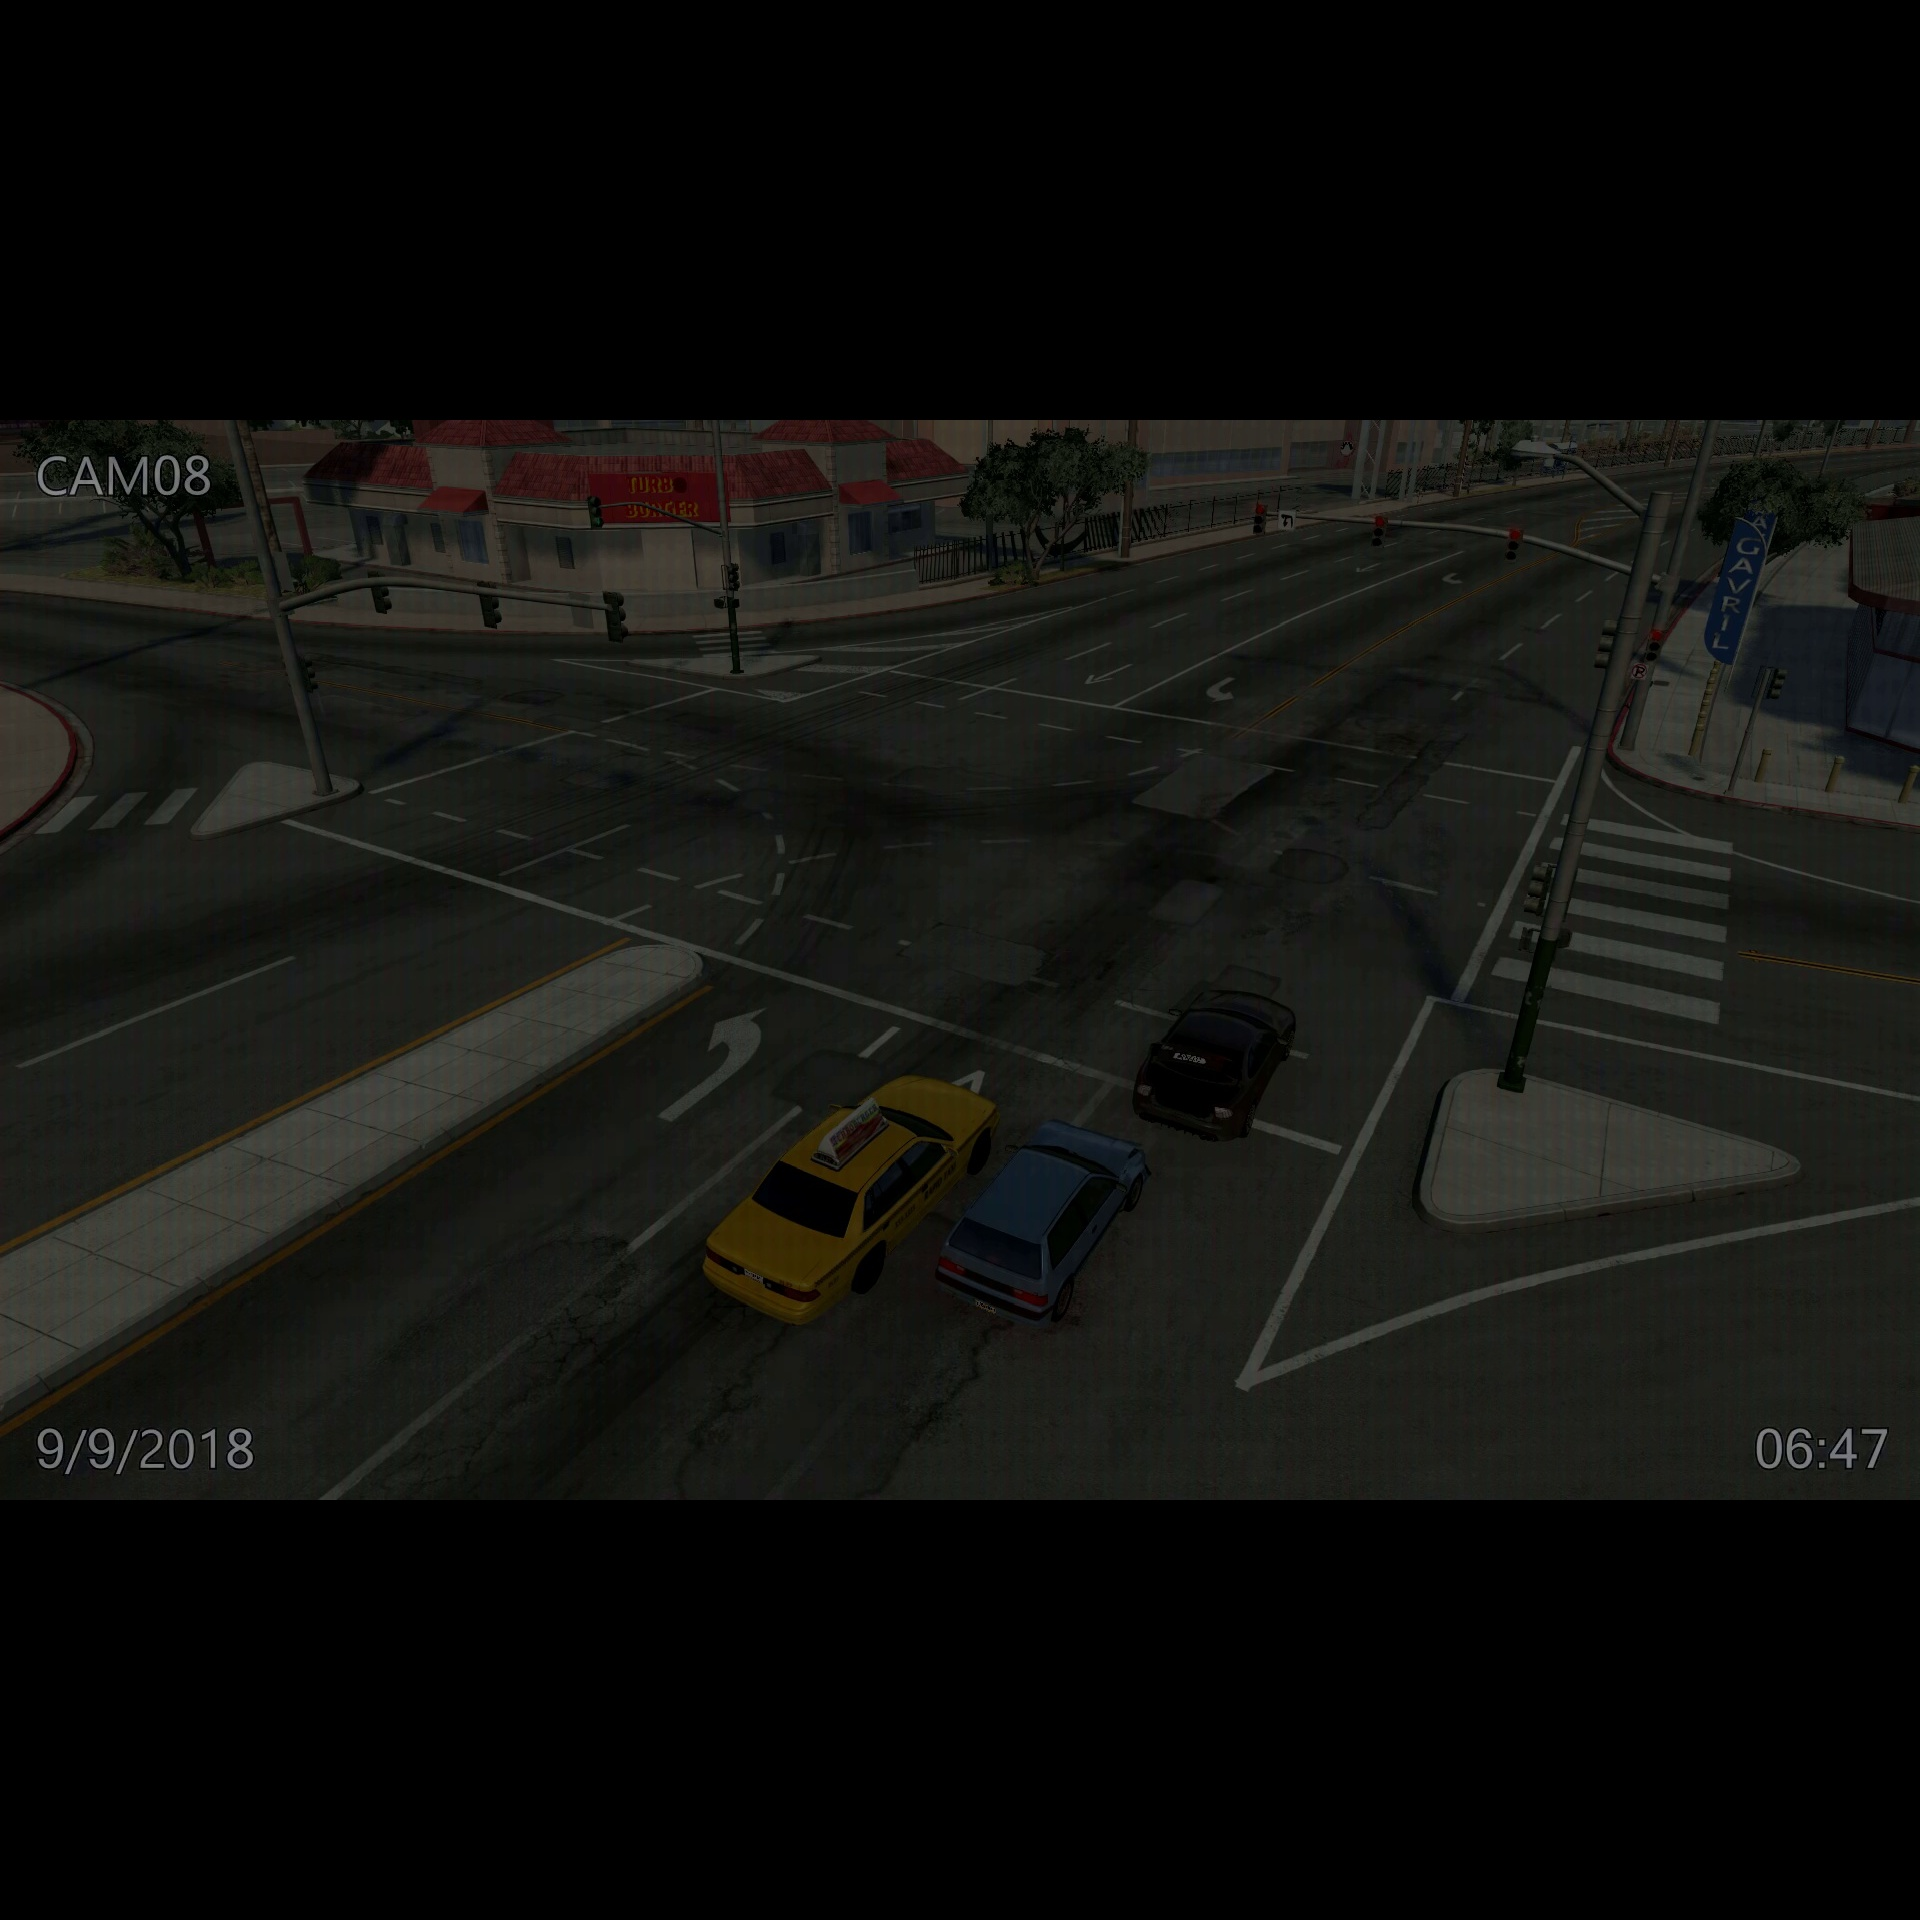vehicle: (696, 1073, 999, 1329), (934, 1118, 1148, 1329), (1125, 972, 1306, 1152)
